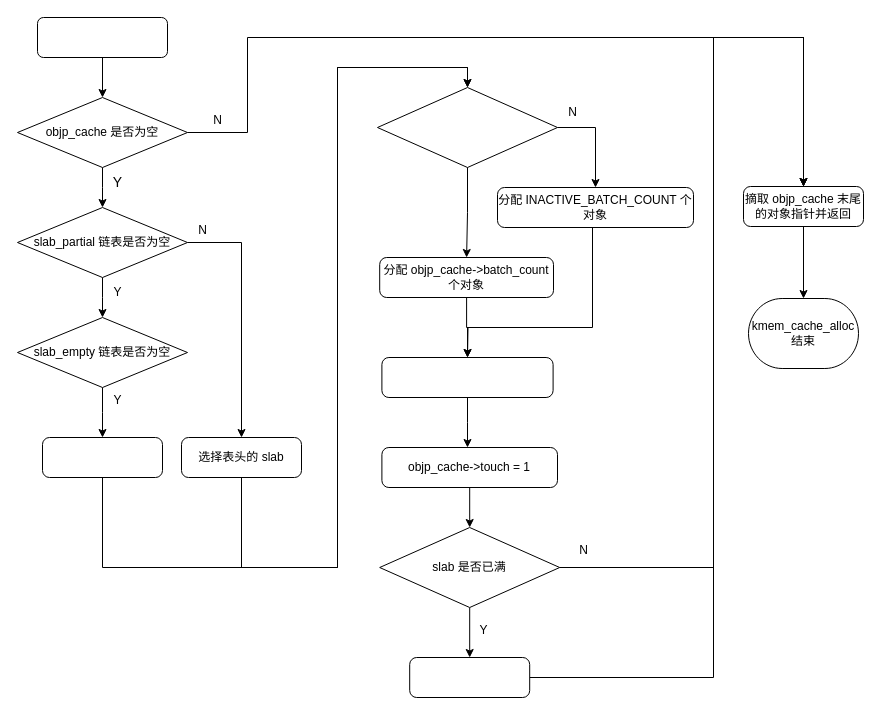
This 881x715 diagram has some shape labels left out. The shapes that lost their labels are listed below. From the top down, each one's centre as x and y in pixels, then its label:
(102,37): kmem_cache_alloc 开始
(467,127): objp_cache->touched 是否为 1
(467,377): 将分配的对象的指针压入objp_cache 末尾
(102,457): 分配 slab 并将其插入到 slab_partial 链表
(469,677): 将 slab 移入 slab_partial 链表
